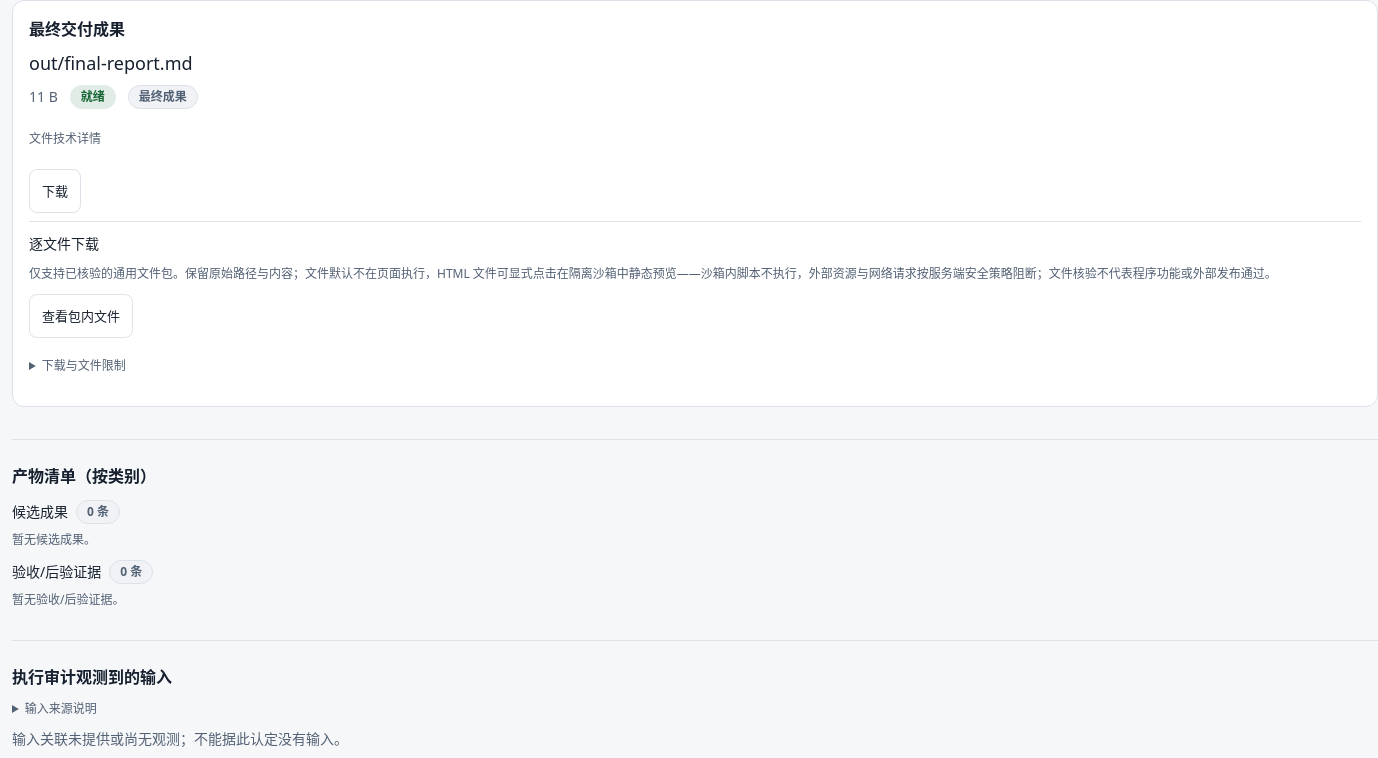
Scenario: 成果页（P09 / E15–E19） › 最终交付成果下载成功并标注下载不等于发布
Check: the element with test id "final-delivery" shows "final-report.md", box [29,51,193,75]
Click the button with test id "download-button" at (55, 191), box [29,169,81,213]
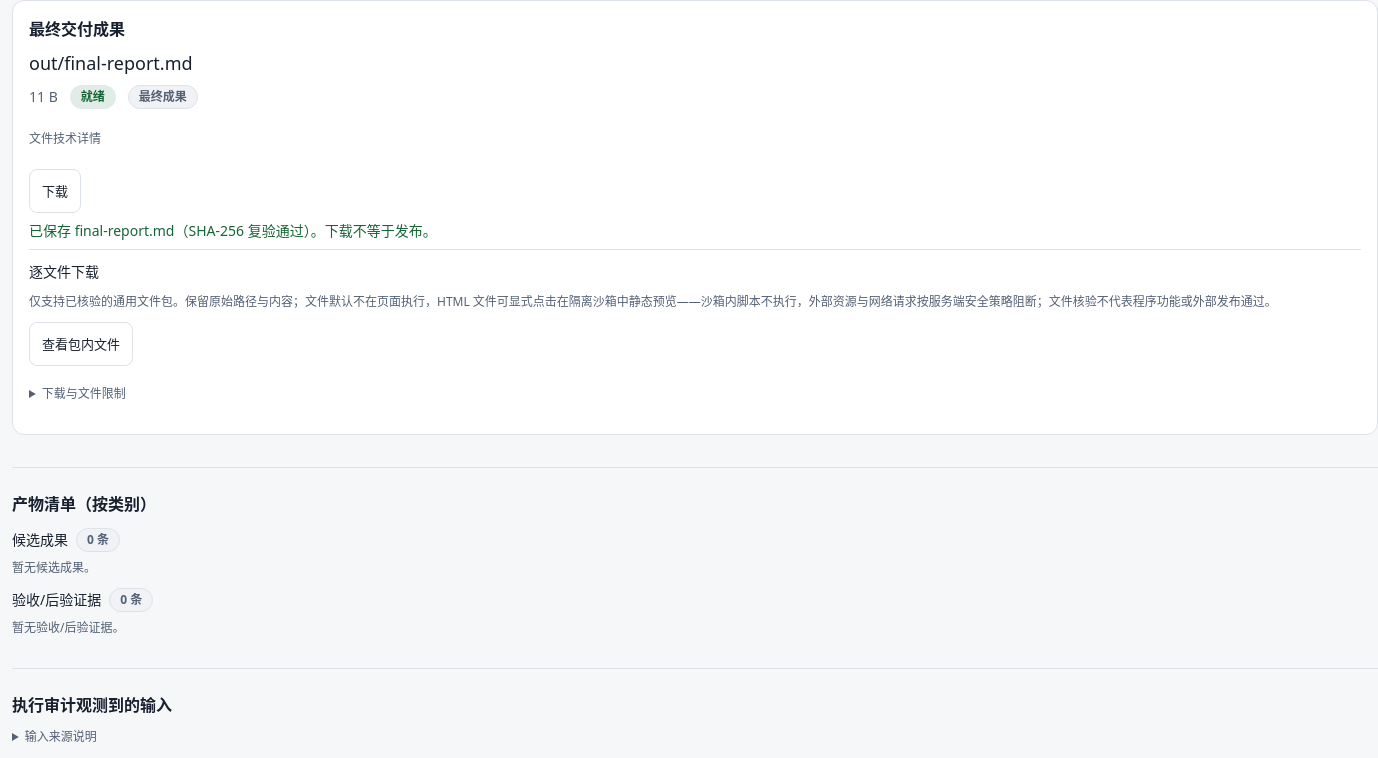
Check: the message with test id "download-success" shows "已保存 final-report.md", box [29,221,437,240]
Check: the message with test id "download-success" shows "下载不等于发布", box [174,221,437,240]
